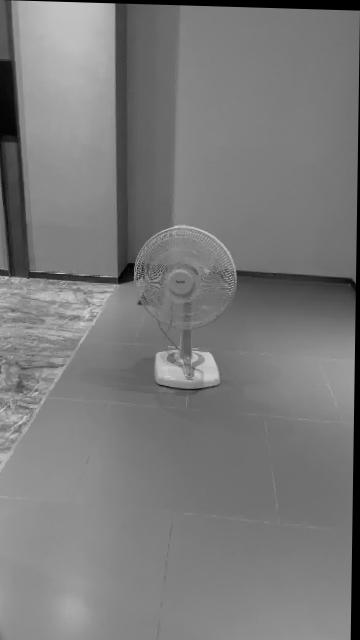Fan: (134, 224, 238, 389)
